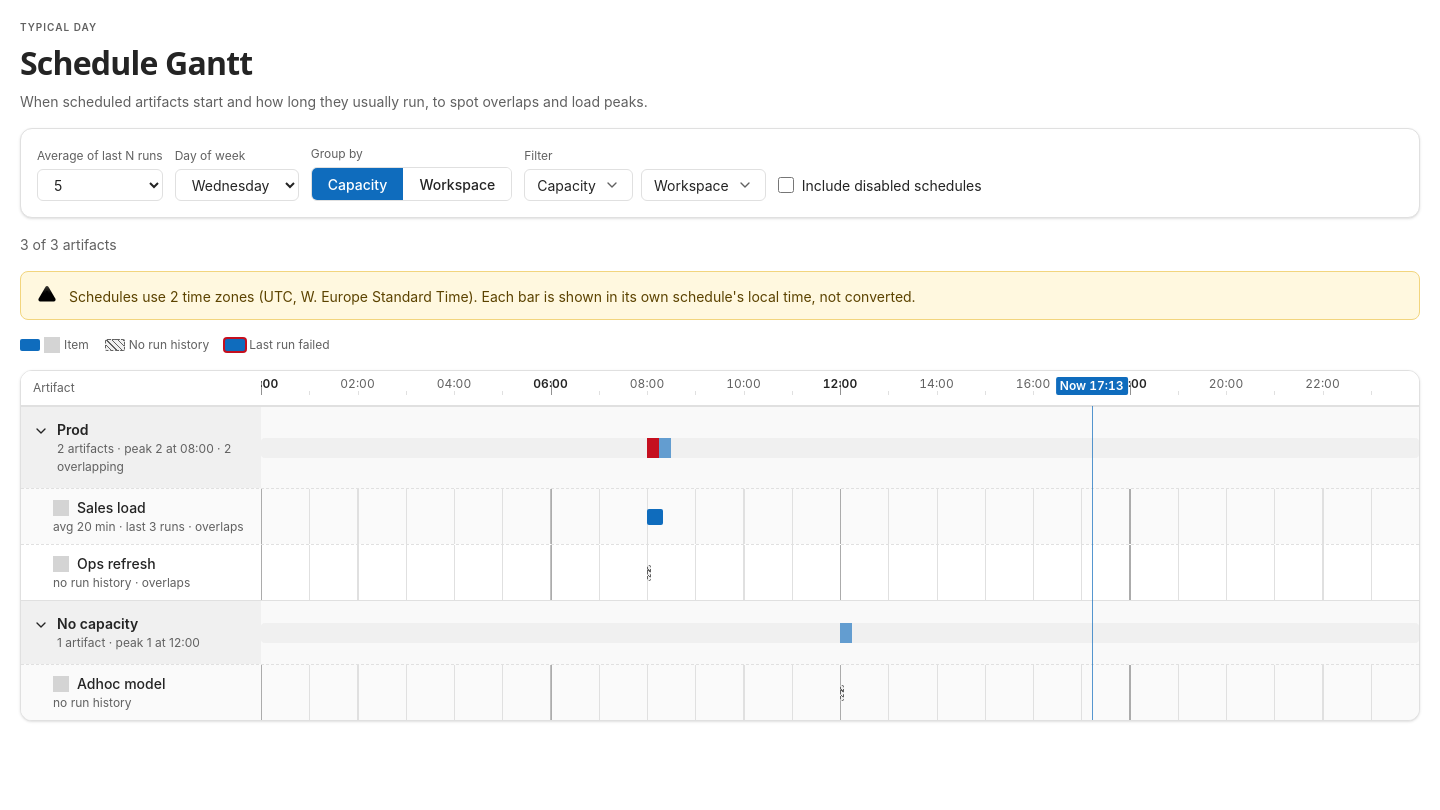
GanttView › filters › shows removable chips for active filters
This screenshot has width=1440, height=810.
Step 1. Click the button "Capacity" → (579,185), box left=524, top=169, right=633, bottom=201
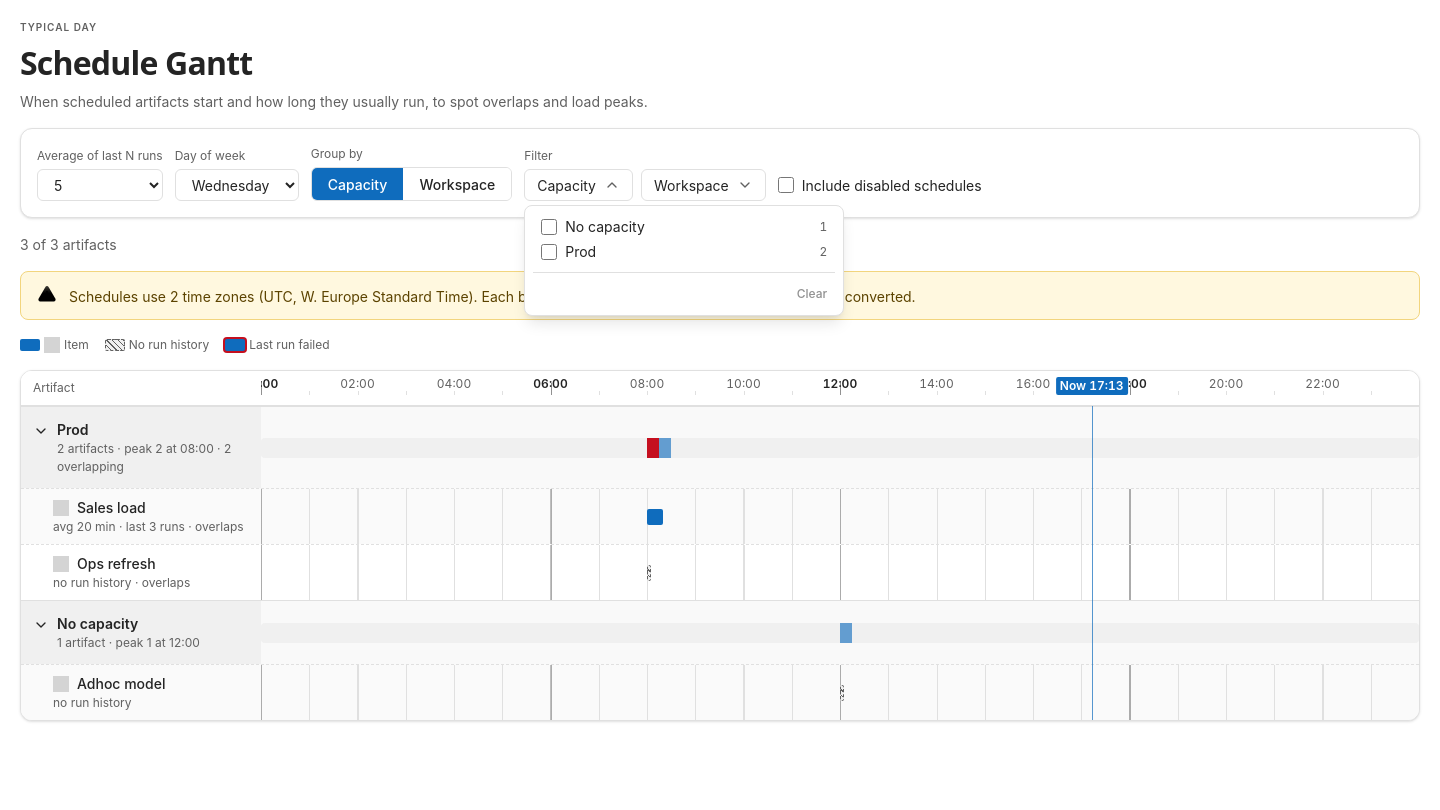
Step 2. Click the checkbox labelled "Prod 2" → (549,252), box left=541, top=244, right=557, bottom=260
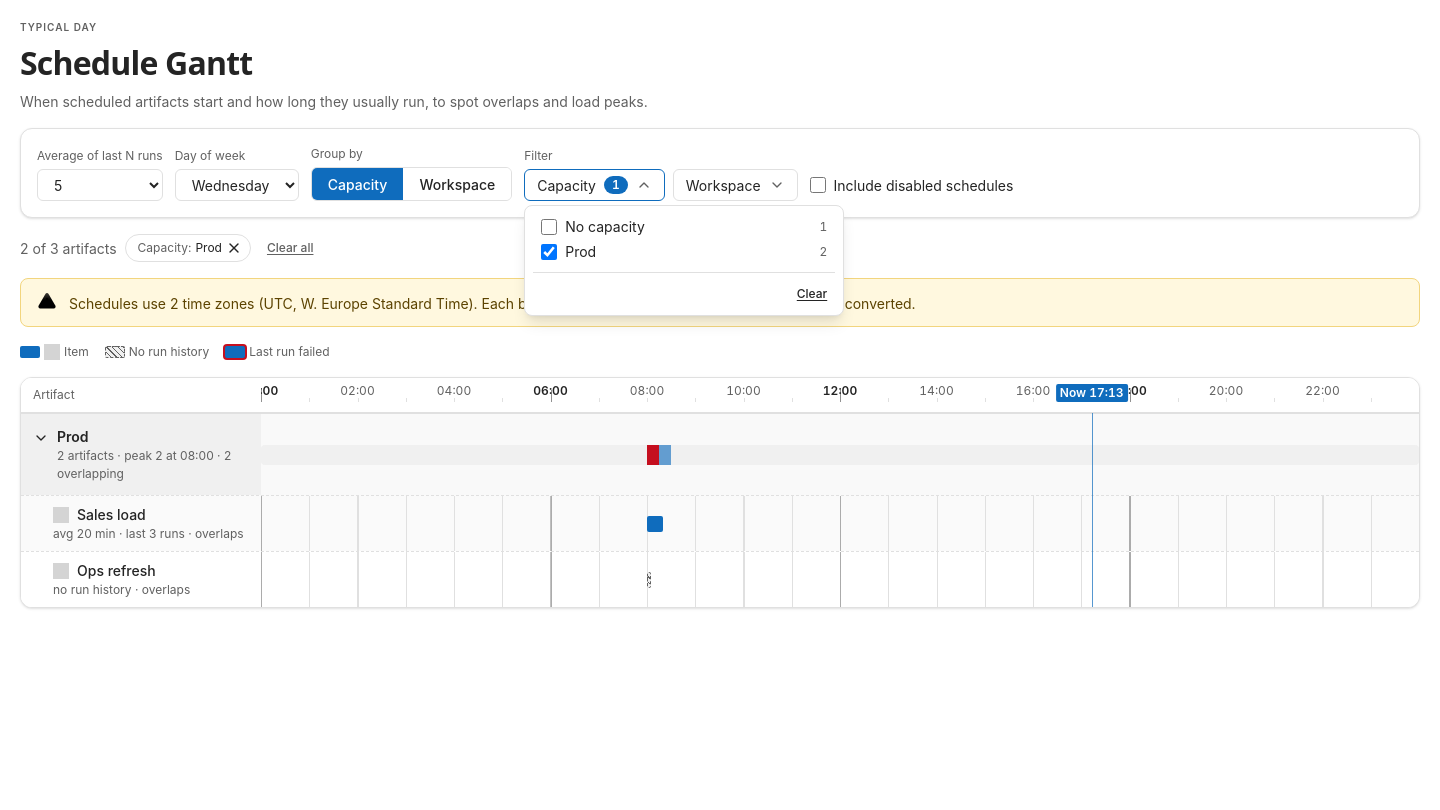
Step 3. Click the button with aria-label "Remove filter Prod" → (188,248), box left=125, top=234, right=251, bottom=262
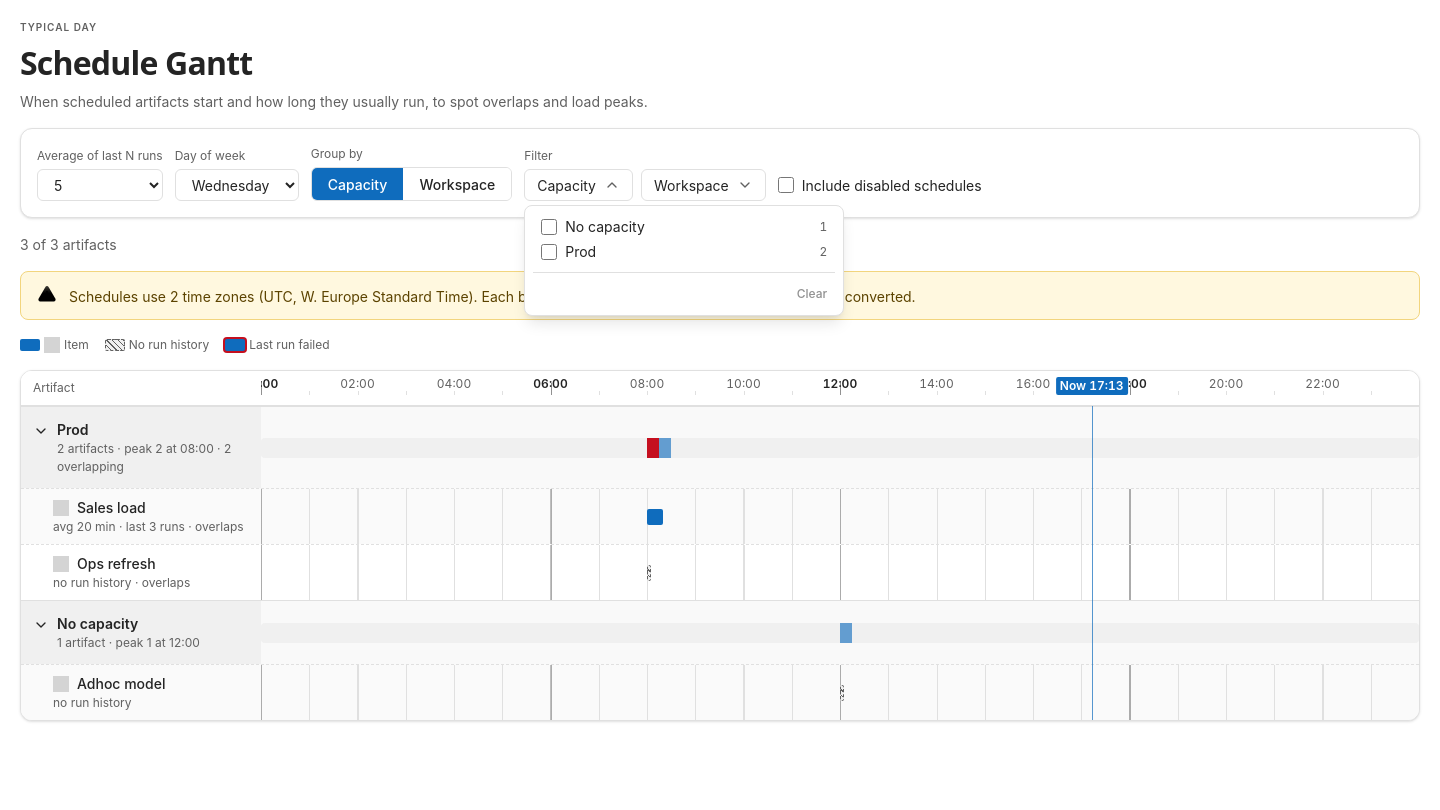
Check: the text "3 of 3 artifacts" is shown, box left=20, top=234, right=117, bottom=255
